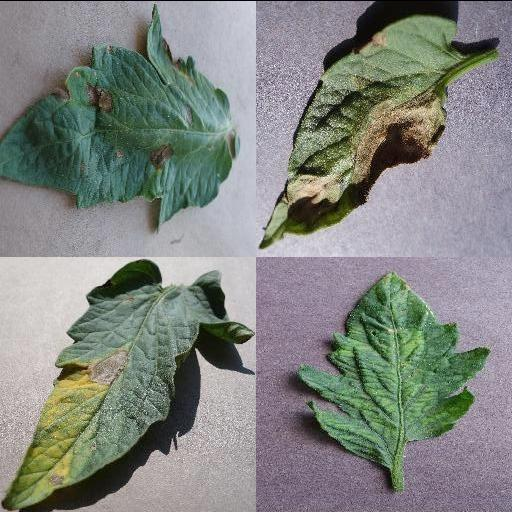Early Blight: (1, 258, 255, 508), (1, 2, 241, 232)
Late Blight: (258, 12, 464, 250)
Mosaic Virus: (297, 270, 491, 468)
